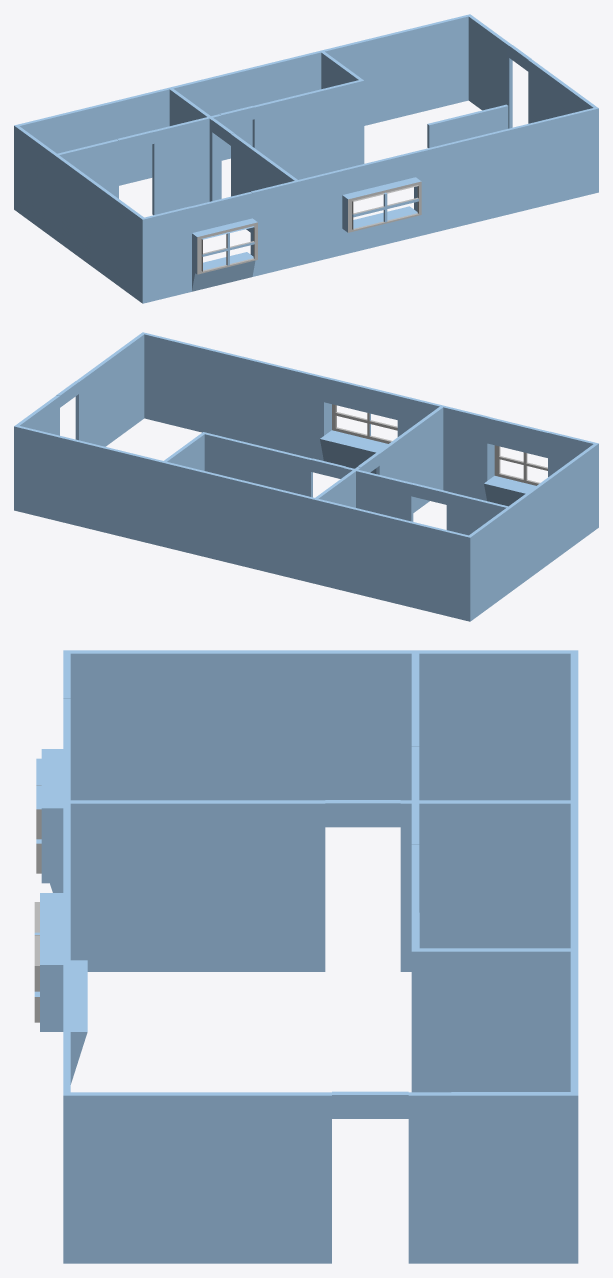
Rendered from casa.obj.
3 renders of one model, top to bottom at view 1: azimuth 30°, elevation 25°; view 2: azimuth 150°, elevation 25°; view 3: azimuth 270°, elevation 25°, orthographic. The views are drawn at different scales.
Visible parts, largest first — view 1: Plane; view 2: Plane; view 3: Plane.
Boxes of the visible parts, x1,y1,x2,y2 form: Plane: [14, 14, 598, 303]; Plane: [14, 332, 598, 621]; Plane: [34, 650, 578, 1263].
Size of the model in its own units: 3.96 by 0.7 by 2.04.
